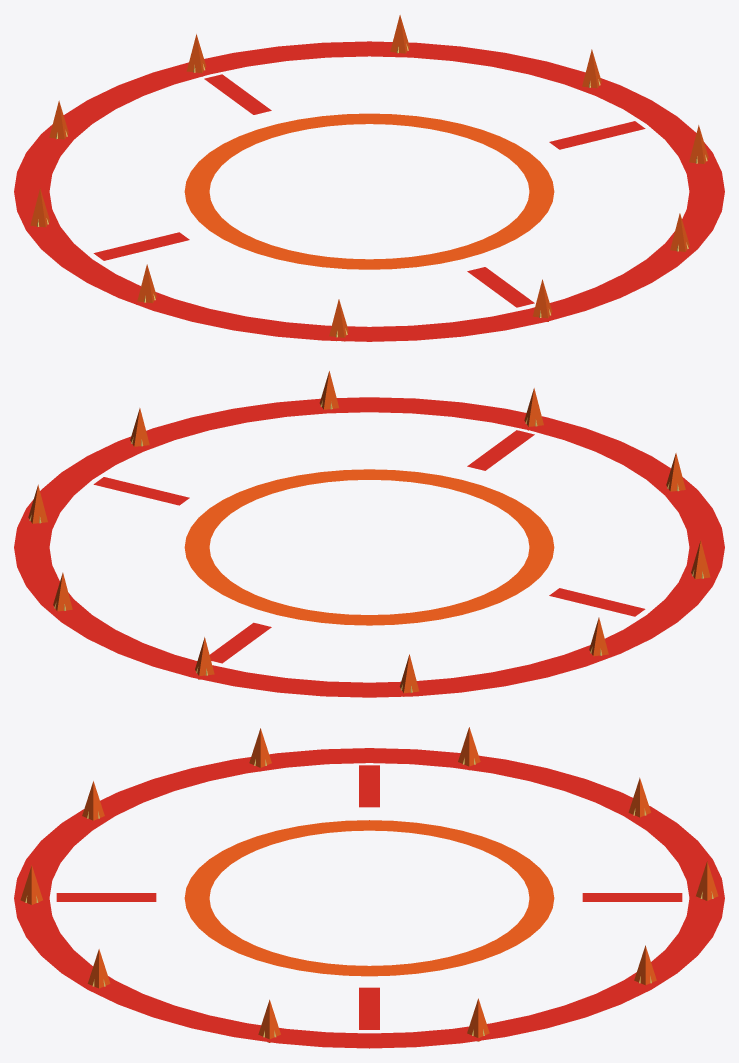
Rendered from pyro_meteor_mark.glb.
The picture shows the model from 3 angles, top to bottom: view 1: azimuth 30°, elevation 25°; view 2: azimuth 150°, elevation 25°; view 3: azimuth 270°, elevation 25°; orthographic projection.
Visible parts, largest first — view 1: pyro_meteor_mark; view 2: pyro_meteor_mark; view 3: pyro_meteor_mark.
Part boxes in pixels (x1,y1,x2,y2): pyro_meteor_mark: (14,15,724,341); pyro_meteor_mark: (14,371,724,697); pyro_meteor_mark: (14,727,724,1048).
Size of the model in its own units: 2 by 0.12 by 2.
1 material, 1 textured.
